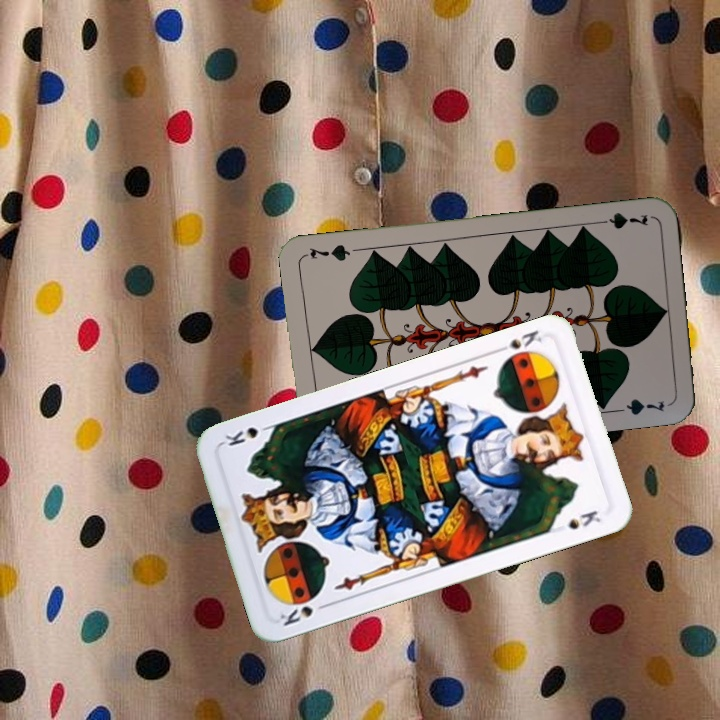G7: (591, 208, 651, 232)
SK: (275, 599, 332, 629), (491, 326, 545, 356)
